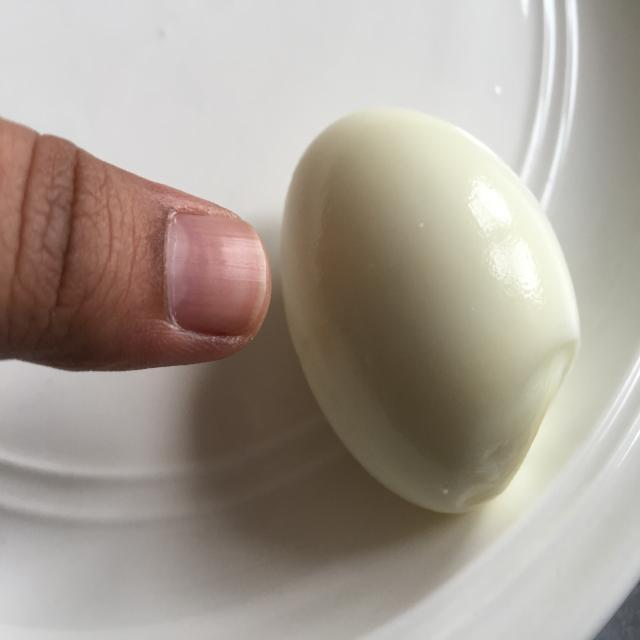Egg: (276, 98, 594, 522)
Finger: (8, 108, 274, 386)
